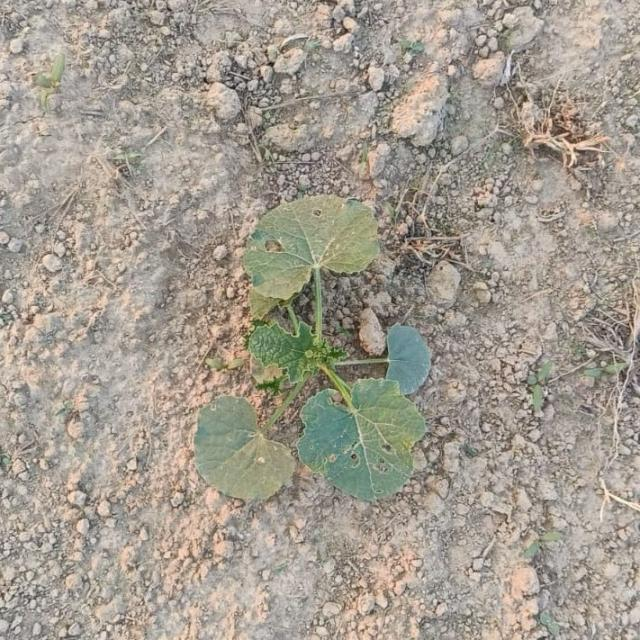plant: (195, 195, 431, 500)
